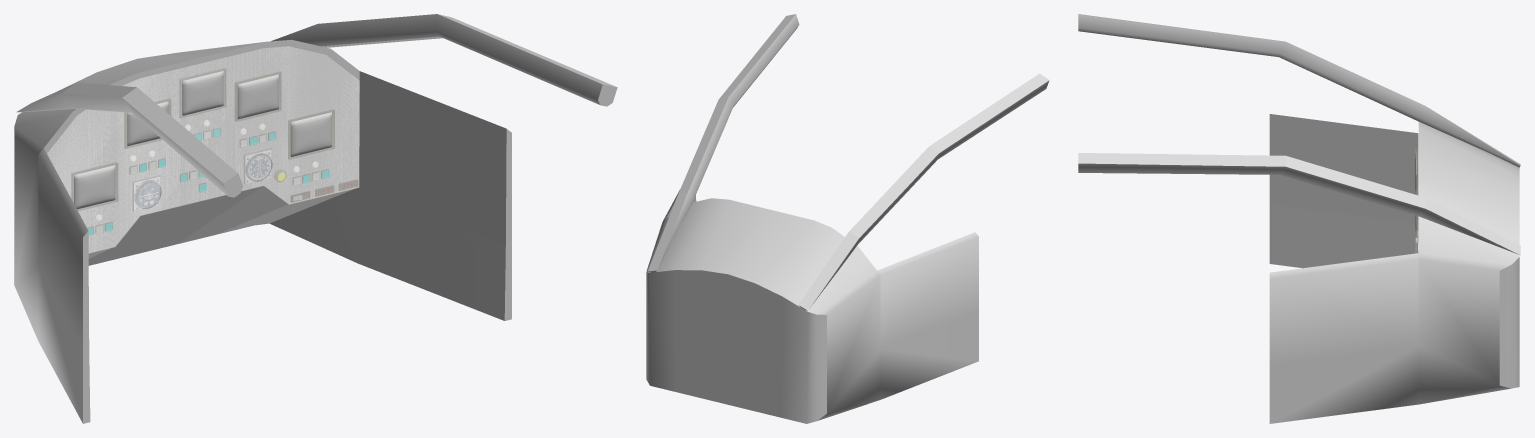
The model's file is Cockpit.glb.
3 views of the same model, side by side, from view 1: azimuth 30°, elevation 25°; view 2: azimuth 150°, elevation 25°; view 3: azimuth 270°, elevation 25° (orthographic). The views are drawn at different scales.
Parts seen in each view (by area): view 1: CockpitStructure, CockpitPanel, ScreenC, ScreenE, ScreenD, ScreenA, ScreenB; view 2: CockpitStructure; view 3: CockpitStructure.
Part boxes in pixels (left/top/right/bottom): CockpitStructure: left=14, top=14, right=617, bottom=423; CockpitPanel: left=47, top=46, right=359, bottom=253; ScreenC: left=182, top=71, right=223, bottom=115; ScreenE: left=290, top=112, right=331, bottom=156; ScreenD: left=237, top=74, right=278, bottom=119; ScreenA: left=74, top=165, right=115, bottom=209; ScreenB: left=127, top=101, right=168, bottom=146; CockpitStructure: left=646, top=14, right=1049, bottom=423; CockpitStructure: left=1078, top=14, right=1520, bottom=423.
Size of the model in its own units: 5.69 by 4.22 by 6.54.
1 material, 1 textured.
